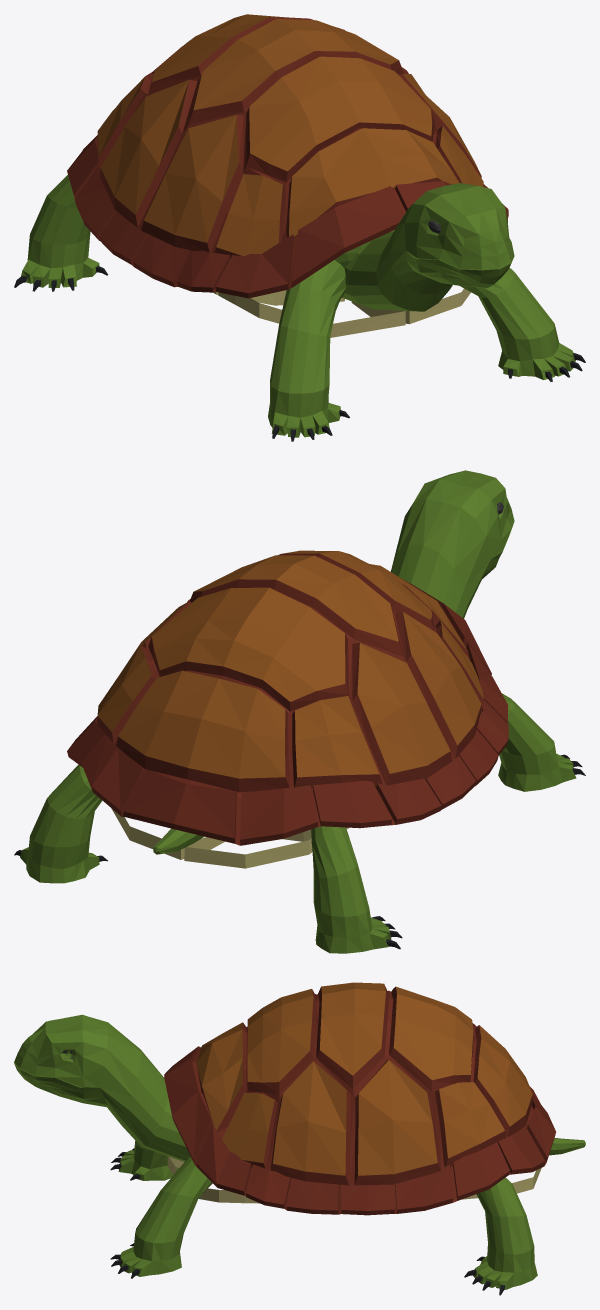
File: 2LCcq8vhqJ3.glb
3 renders of one model, top to bottom at view 1: azimuth 30°, elevation 25°; view 2: azimuth 150°, elevation 25°; view 3: azimuth 270°, elevation 25°, orthographic. The views are drawn at different scales.
Parts seen in each view (by area): view 1: Node; view 2: Node; view 3: Node.
Boxes of the visible parts, left/top/right/bottom form: Node: left=14, top=14, right=585, bottom=441; Node: left=14, top=470, right=585, bottom=953; Node: left=14, top=982, right=585, bottom=1295.
Size of the model in its own units: 14.02 by 9.54 by 21.62.
1 material, 1 textured.
